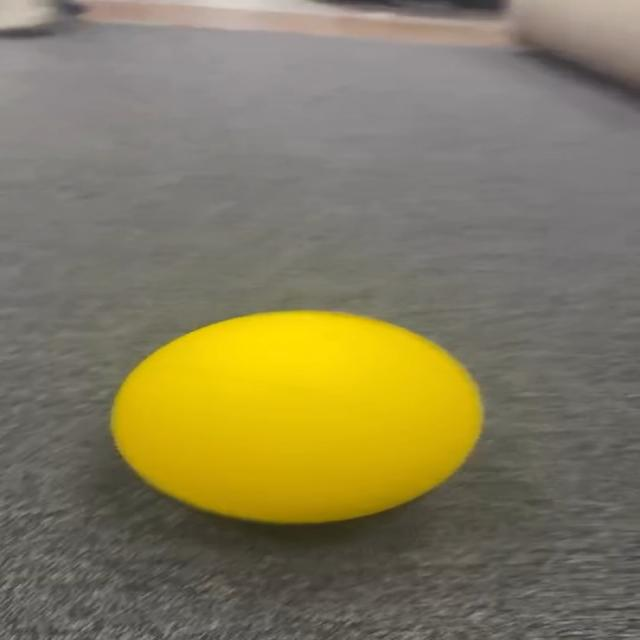Fuels: (112, 311, 482, 522)
